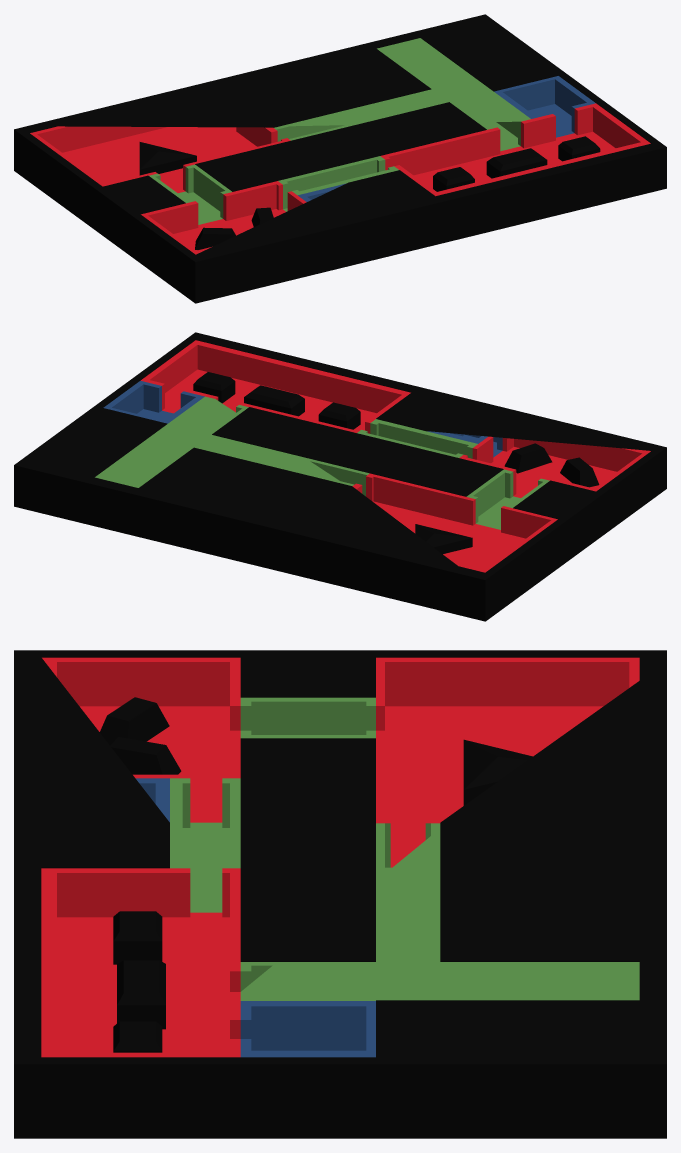
The model's file is Room3.fbx.
3 renders of one model, top to bottom at view 1: azimuth 30°, elevation 25°; view 2: azimuth 150°, elevation 25°; view 3: azimuth 270°, elevation 25°, orthographic. The views are drawn at different scales.
Parts seen in each view (by area): view 1: Cube; view 2: Cube; view 3: Cube.
Boxes of the visible parts, x1,y1,x2,y2 form: Cube: (14, 14, 666, 303); Cube: (14, 332, 666, 621); Cube: (14, 650, 666, 1138).
Size of the model in its own units: 600 by 50.43 by 400.
